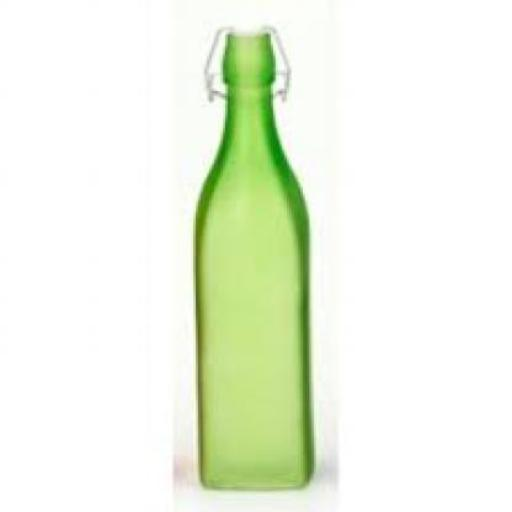glass: (191, 29, 312, 490)
